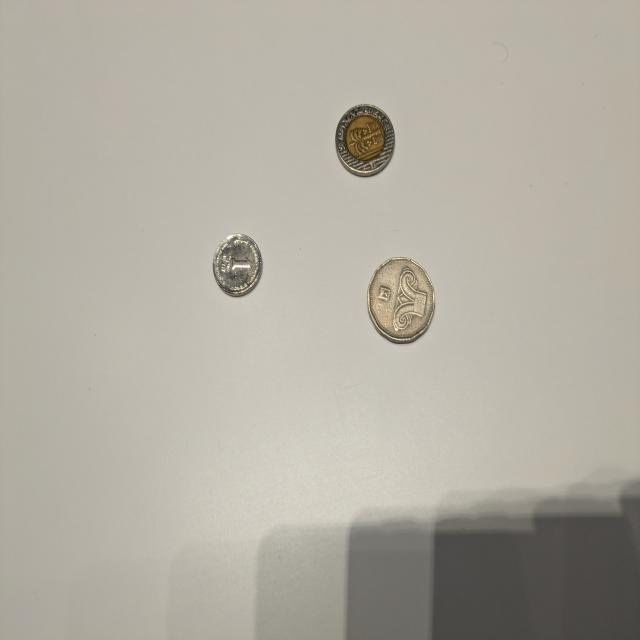1-shekel: (212, 232, 262, 296)
10-shekel: (336, 103, 398, 178)
5-shekel: (367, 256, 436, 341)
